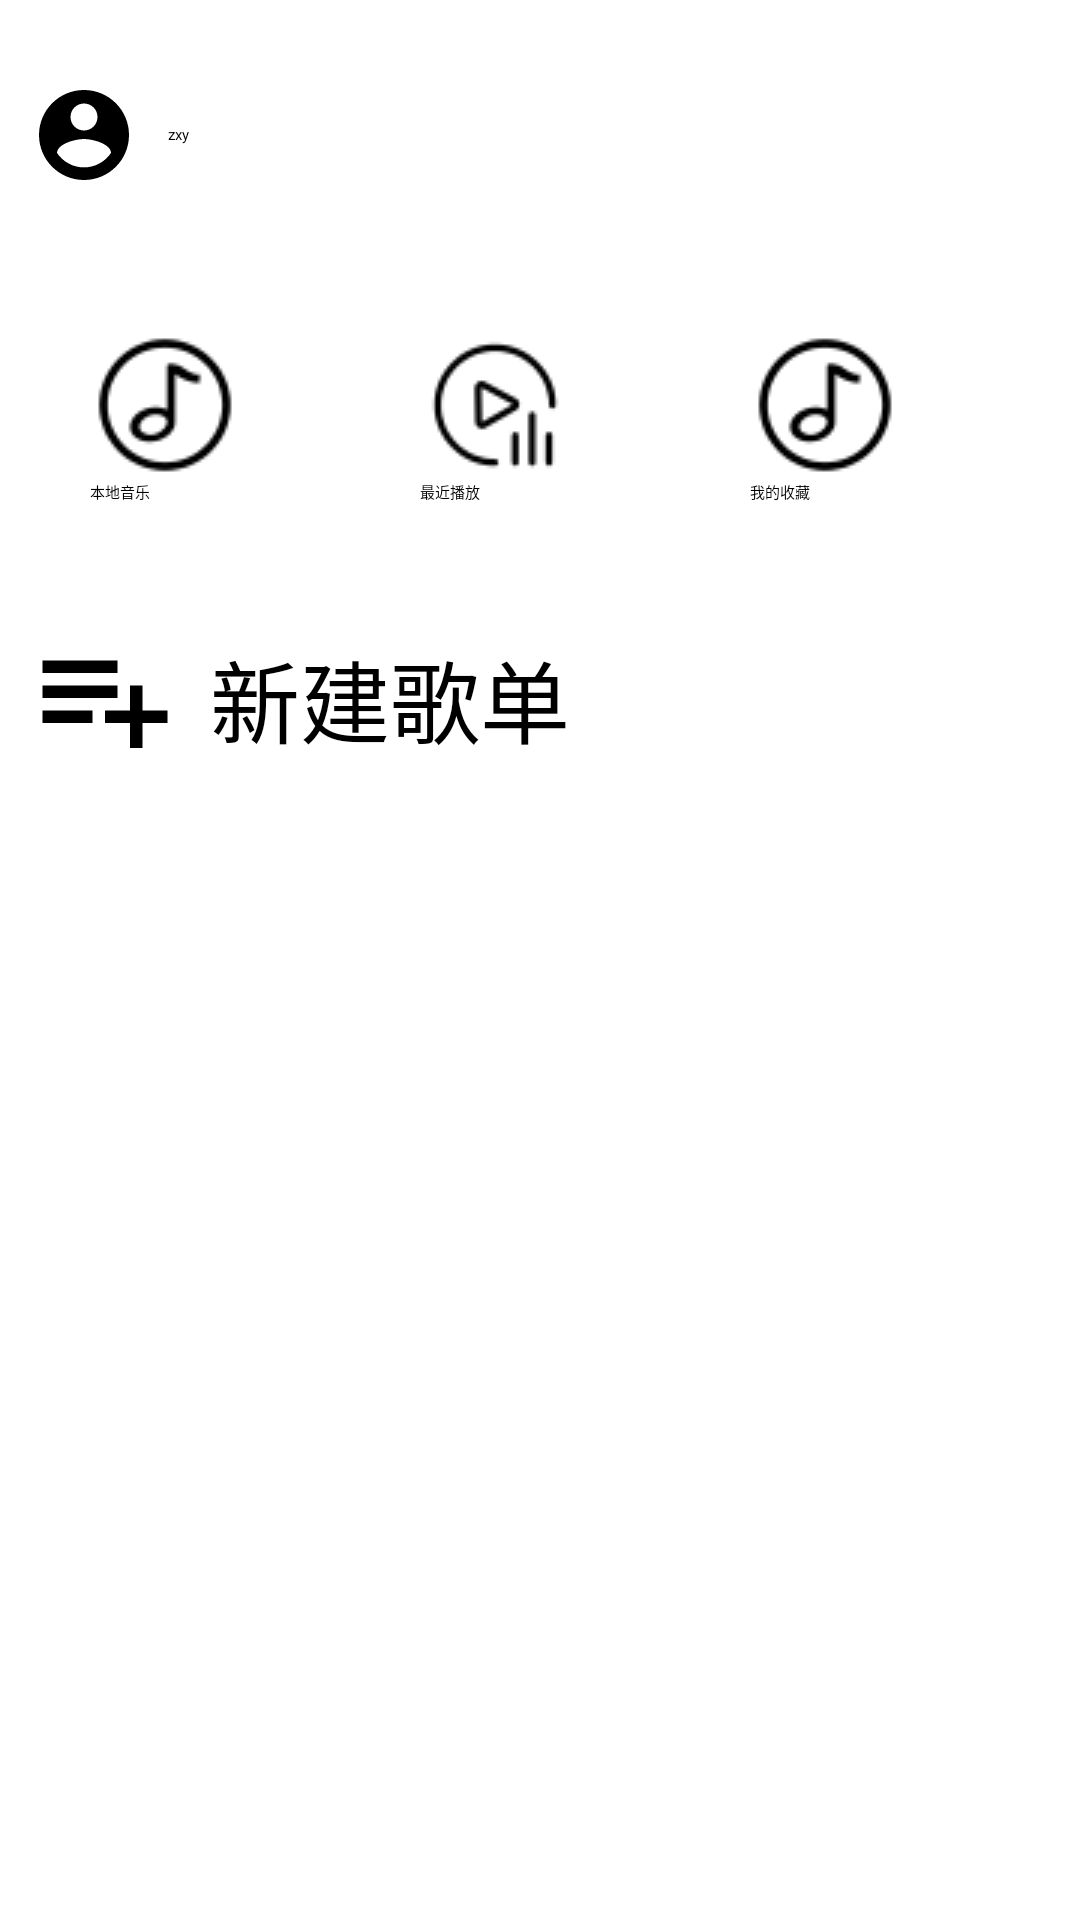

Where icons sit on this 1080 x 1920 app screen, as bbox(x1, y1, x2, y2):
account: bbox(39, 90, 129, 180)
playlist add: bbox(42, 660, 168, 748)
